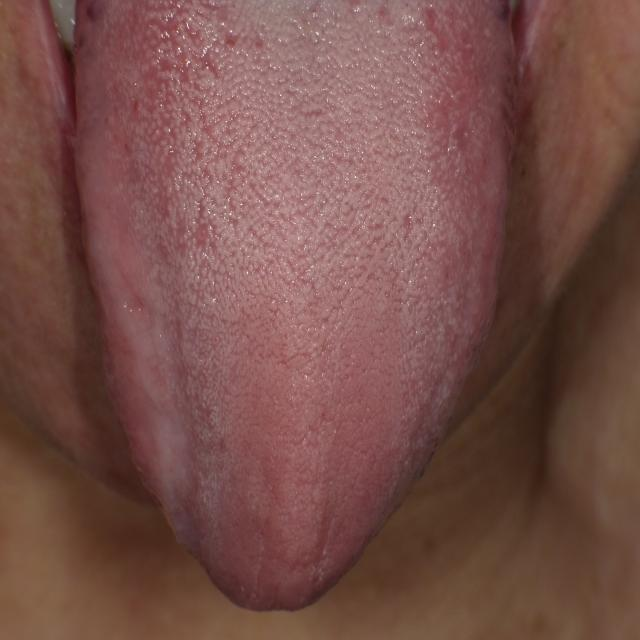baitaishe: (73, 1, 511, 612)
gandanao: (76, 60, 213, 537)
